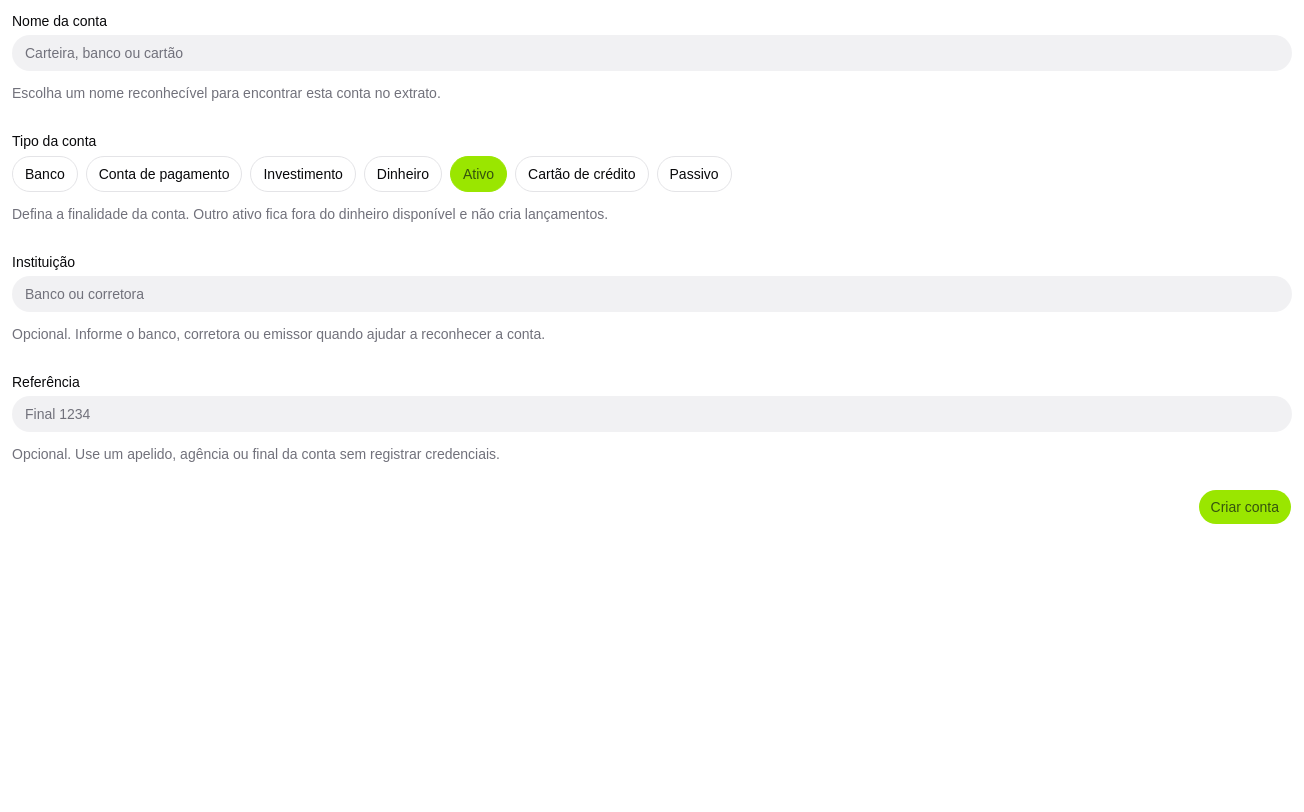
Test case: AccountForm › does not expose the settlement control until investment is selected
The width and height of the screenshot is (1304, 812).
Expected: the dropdown labelled "Conta padrão de liquidação" is not shown
What coordinates should you click on to do the following:
click the button "Investimento"
I would click on:
 (303, 174)
Its box is x1=250 y1=156 x2=356 y2=192.
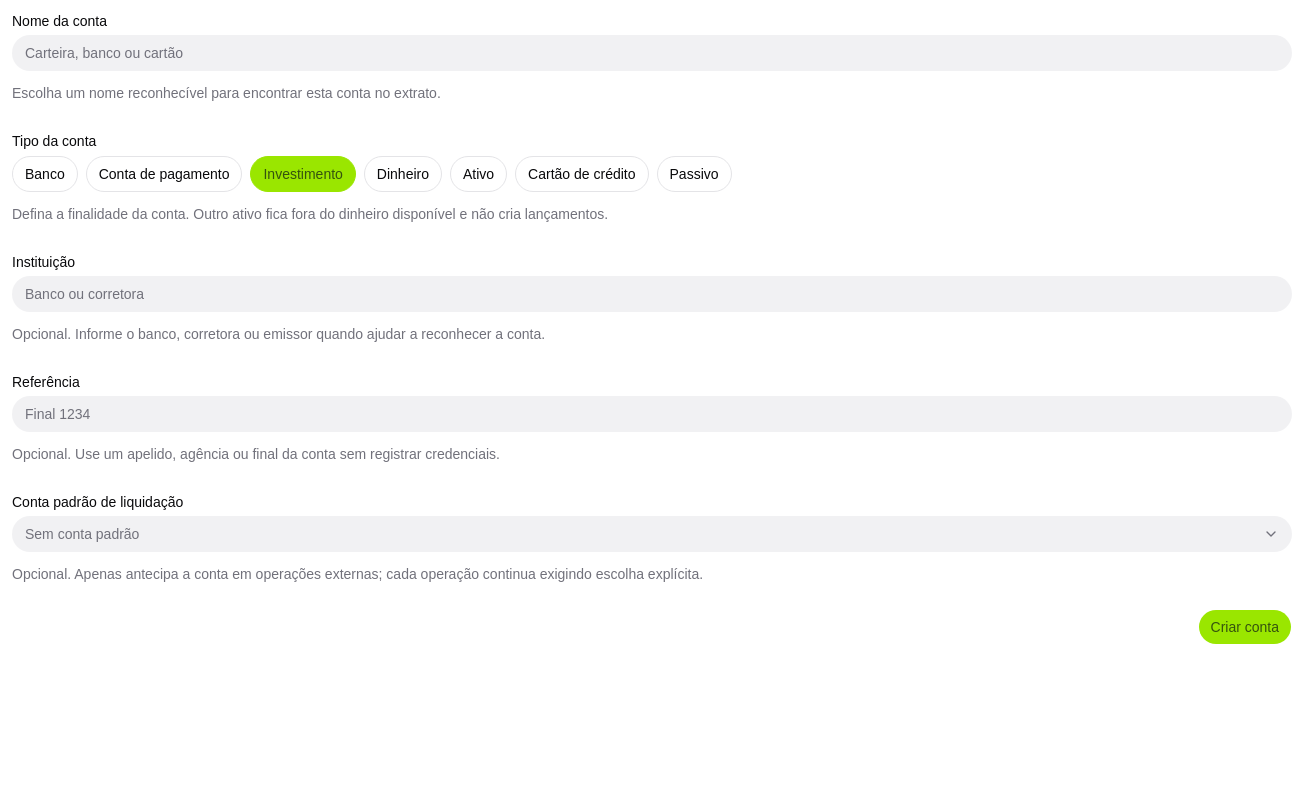
Expected: the dropdown named "Conta padrão de liquidação" is shown, x1=12 y1=516 x2=1292 y2=552
